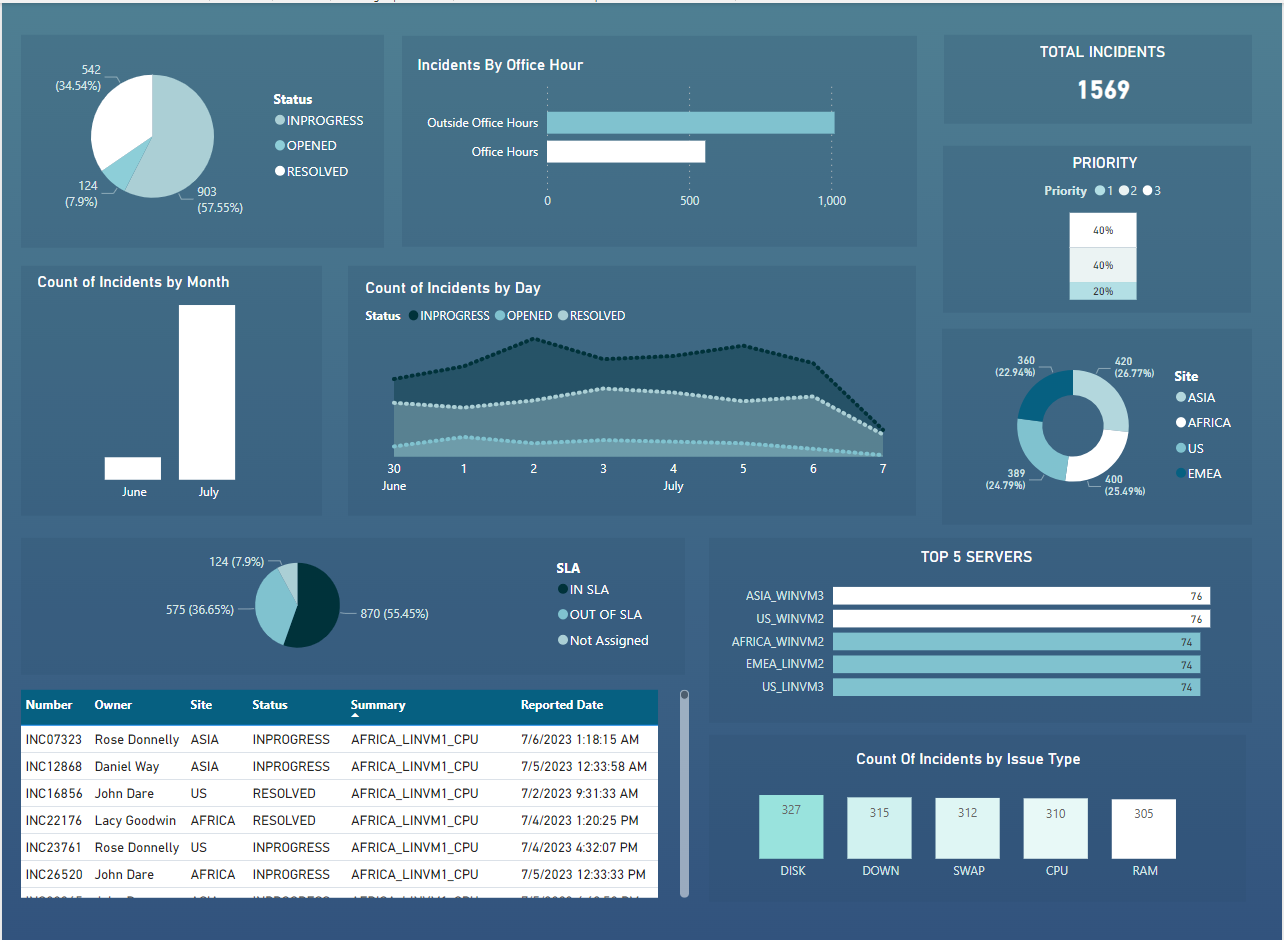

This screenshot's page, from the dashboard's own definition file:
{"tool":"powerbi","page":{"name":"Incidents","canvas":[1280,1000],"ordinal":0},"visuals":[{"type":"shape","box":[18.9,555.8,663.8,137.5],"z":0},{"type":"shape","box":[345.6,284,568.9,250],"z":1000},{"type":"shape","box":[941.7,53.4,308,89],"z":2000},{"type":"shape","box":[941.5,164.3,307.9,166.7],"z":3000},{"type":"shape","box":[940.4,346.5,310,196.7],"z":4000},{"type":"shape","box":[706.7,753.3,537.8,166.7],"z":5000},{"type":"shape","box":[400.3,53.5,514.5,211.8],"z":6000},{"type":"shape","box":[706.7,555.6,543.3,185.6],"z":7000},{"type":"shape","box":[18.9,53.3,363.3,212.2],"z":8000},{"type":"shape","box":[18.9,284,301.1,250],"z":9000},{"type":"tableEx","title":"SUM OF INCIDENTS BY SEVERITY","fields":{"Values":["INC.Number","INC.Owner","INC.Site","INC.Status","INC.Summary","INC.Reported_Date"]},"box":[13.3,702.9,678.9,217.8],"z":10000},{"type":"pieChart","title":"SUM OF INCIDENTS BY CUSTOMER","fields":{"Category":["INC.Site"],"Y":["INC.Site"]},"box":[964.2,361,279.6,165.5],"z":11000},{"type":"hundredPercentStackedColumnChart","title":"PRIORITY","fields":{"Y":["INC.Summary"],"Series":["INC.Priority"]},"box":[972.9,171.4,260.9,153],"z":12000},{"type":"columnChart","title":"Count Of Incidents by Issue Type","fields":{"Category":["INC.ISSUE"],"Y":["INC.ISSUE"]},"box":[717.4,767.1,499.2,139.5],"z":13000},{"type":"clusteredBarChart","title":"TOP 5 SERVERS","fields":{"Category":["INC.SERVER"],"Y":["INC.ISSUE"]},"box":[717.5,565.3,515.7,164],"z":14000},{"type":"barChart","title":"Incidents By Office Hour","fields":{"Category":["INC.OH"],"Y":["INC.ISSUE"]},"box":[411.1,73.3,494.4,163.3],"z":15000},{"type":"card","title":"TOTAL INCIDENTS","fields":{"Values":["INC.ISSUE"]},"box":[968,60,266,76],"z":16000},{"type":"areaChart","title":"Count of Incidents by Day","fields":{"Category":["INC.Reported_Date.Variation.Date Hierarchy.Month","INC.Reported_Date.Variation.Date Hierarchy.Day"],"Y":["INC.ISSUE"],"Series":["INC.Status"]},"box":[358.9,295.8,555.6,238.9],"z":17000},{"type":"columnChart","title":"Count of Incidents by Month","fields":{"Category":["INC.Reported_Date.Variation.Date Hierarchy.Month"],"Y":["INC.ISSUE"]},"box":[31.1,289.5,276.7,238.9],"z":18000},{"type":"pieChart","fields":{"Series":["INC.Status"],"Y":["INC.ISSUE"]},"box":[24.2,65.7,352.5,177.5],"z":19000},{"type":"pieChart","fields":{"Y":["INC.ISSUE"],"Category":["INC.SLA"]},"box":[31,565,631,117],"z":20000}]}

Visuals, with their boxes on the page's 1280x1000 design canvas (x1, y1, x2, y2). These are canvas units, not pixel positions in the 1284x940 screenshot, which may show the page scaled, cropped or inside an application window:
shape: crop(19, 556, 683, 693)
shape: crop(346, 284, 914, 534)
shape: crop(942, 53, 1250, 142)
shape: crop(942, 164, 1249, 331)
shape: crop(940, 346, 1250, 543)
shape: crop(707, 753, 1244, 920)
shape: crop(400, 54, 915, 265)
shape: crop(707, 556, 1250, 741)
shape: crop(19, 53, 382, 266)
shape: crop(19, 284, 320, 534)
"SUM OF INCIDENTS BY SEVERITY" tableEx: crop(13, 703, 692, 921)
"SUM OF INCIDENTS BY CUSTOMER" pieChart: crop(964, 361, 1244, 526)
"PRIORITY" hundredPercentStackedColumnChart: crop(973, 171, 1234, 324)
"Count Of Incidents by Issue Type" columnChart: crop(717, 767, 1217, 907)
"TOP 5 SERVERS" clusteredBarChart: crop(718, 565, 1233, 729)
"Incidents By Office Hour" barChart: crop(411, 73, 906, 237)
"TOTAL INCIDENTS" card: crop(968, 60, 1234, 136)
"Count of Incidents by Day" areaChart: crop(359, 296, 914, 535)
"Count of Incidents by Month" columnChart: crop(31, 290, 308, 528)
pieChart - INC.Status x INC.ISSUE: crop(24, 66, 377, 243)
pieChart - INC.ISSUE x INC.SLA: crop(31, 565, 662, 682)
